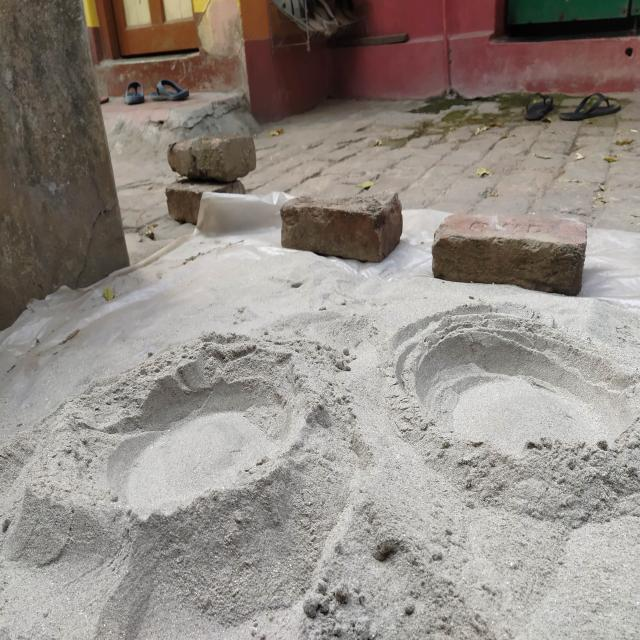C20: (104, 337, 335, 518), (392, 307, 640, 457)
